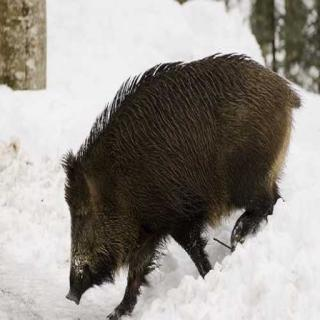Pig: (40, 22, 308, 314)
